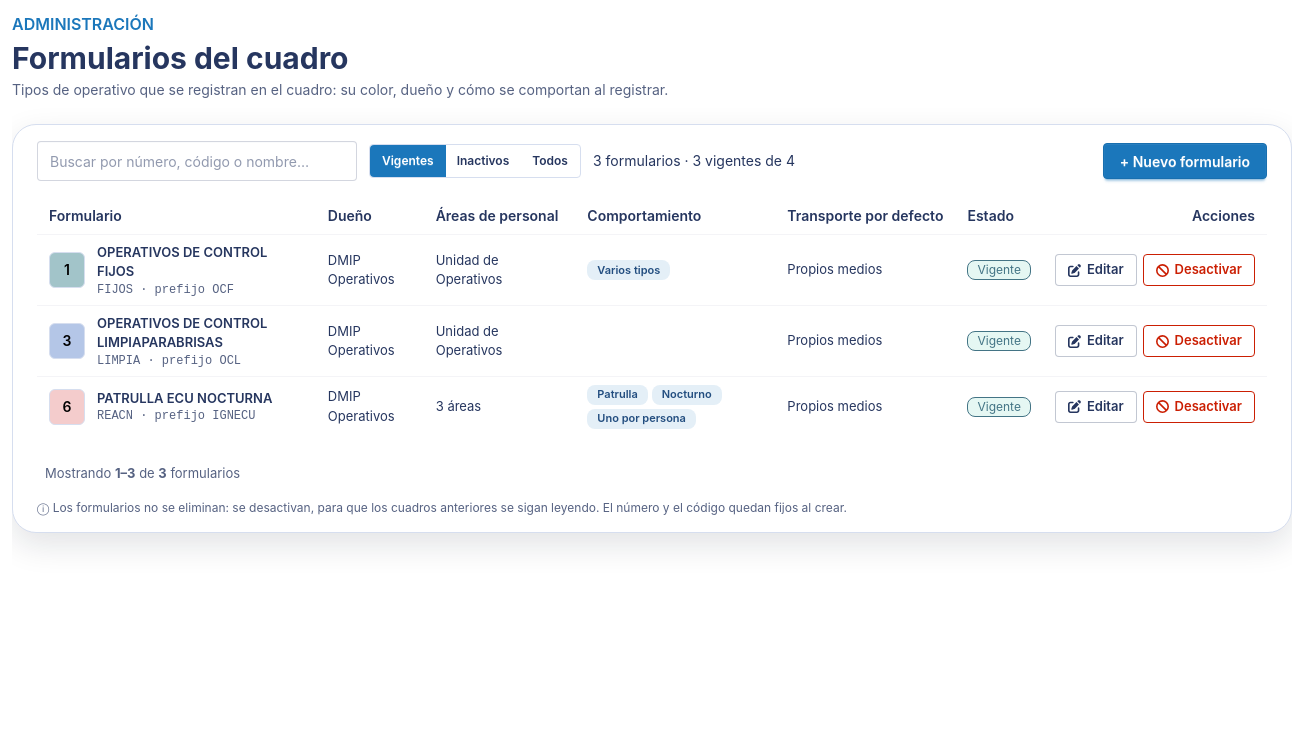
tabla y filtro › un formulario sin áreas se marca «⚠ Sin áreas»
This screenshot has width=1292, height=732.
Expected: the table named "Formularios del cuadro" is shown, [37, 197, 1267, 436]
Click the button "Todos": (550, 161) [520, 145, 580, 177]
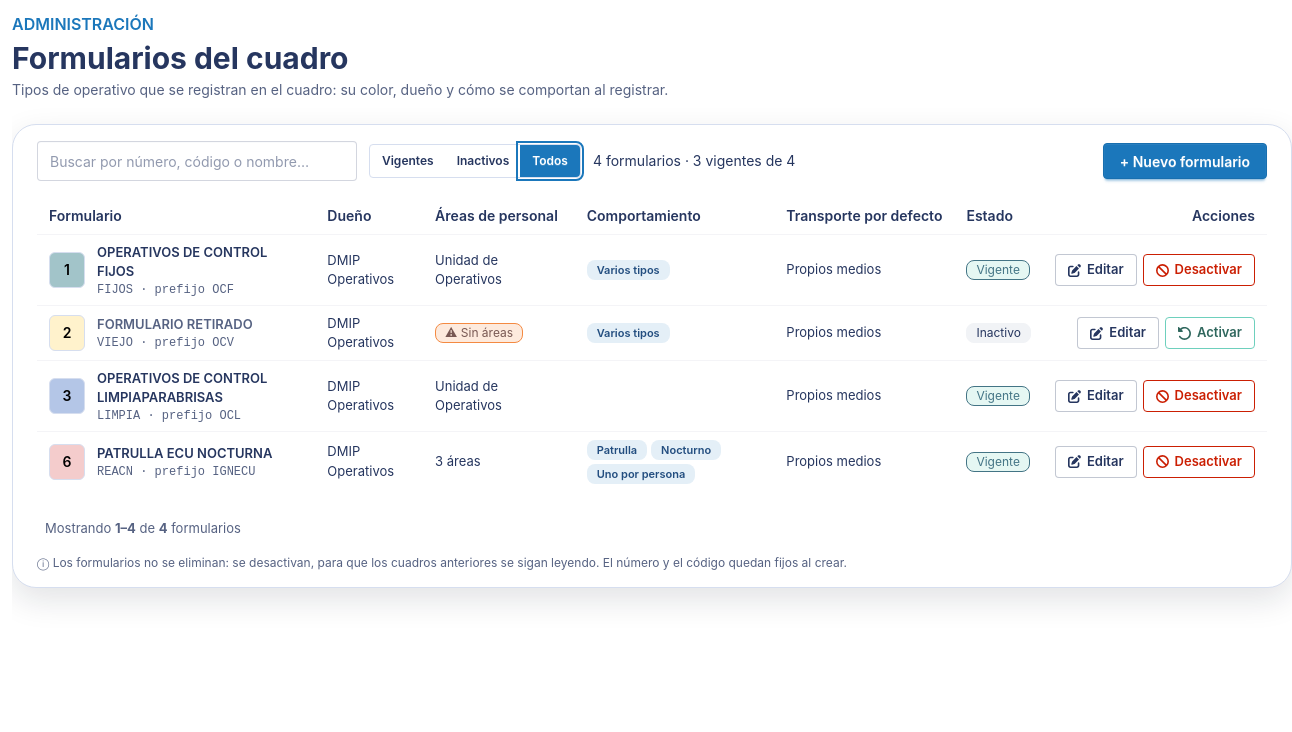
Expected: the text "⚠ Sin áreas" is shown, [435, 323, 523, 343]
